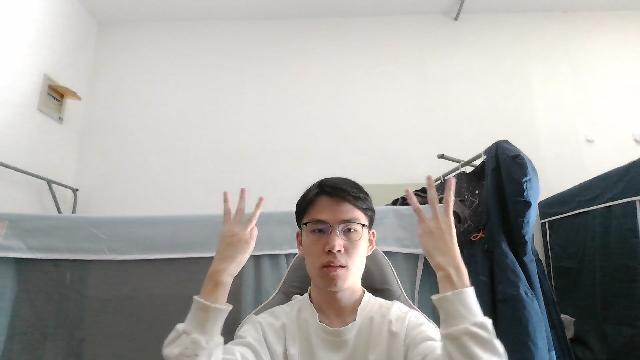three: (404, 171, 468, 279), (210, 184, 265, 270)
